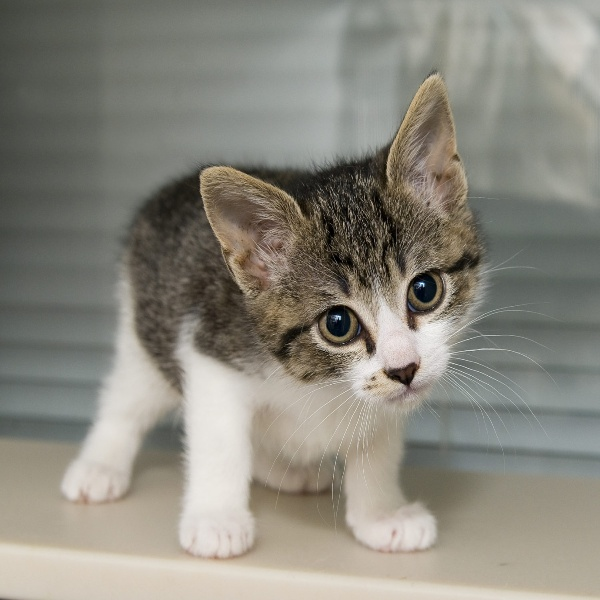cat: (56, 67, 504, 560)
